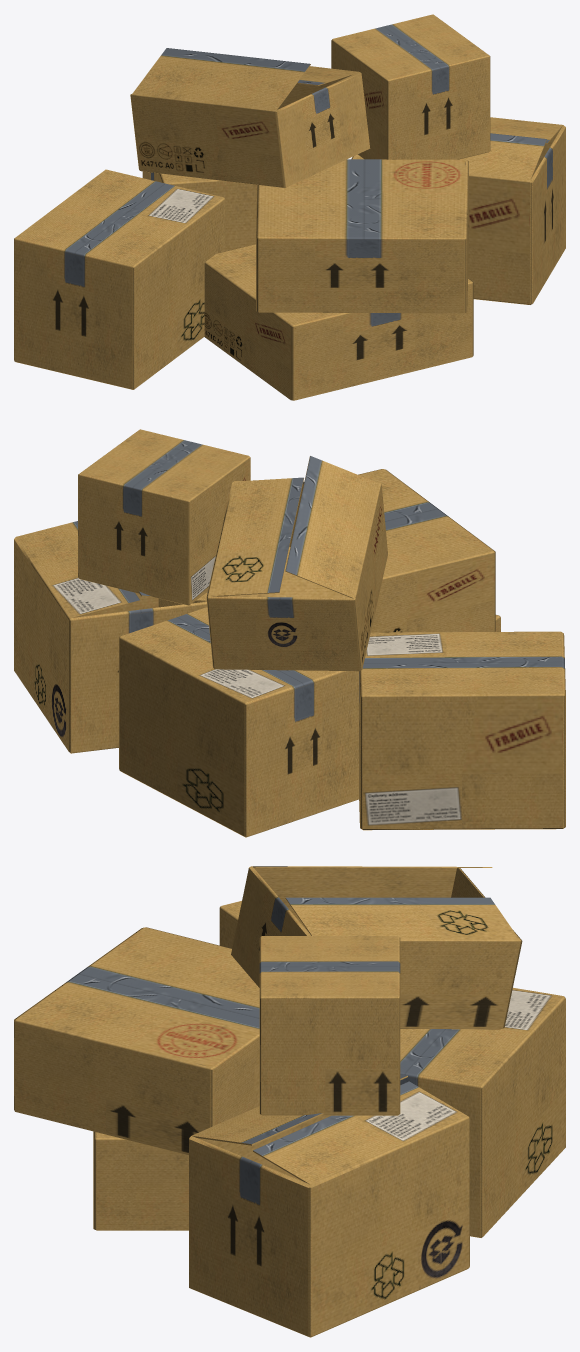
Rendered from cardboard_boxes_pile_02.fbx.
3 renders of one model, top to bottom at view 1: azimuth 30°, elevation 25°; view 2: azimuth 150°, elevation 25°; view 3: azimuth 270°, elevation 25°, orthographic. The views are drawn at different scales.
Parts seen in each view (by area): view 1: cardboard_boxes_pile_02; view 2: cardboard_boxes_pile_02; view 3: cardboard_boxes_pile_02.
Part boxes in pixels (bbox=[...]): cardboard_boxes_pile_02: bbox=[14, 14, 565, 400]; cardboard_boxes_pile_02: bbox=[14, 429, 565, 837]; cardboard_boxes_pile_02: bbox=[14, 866, 565, 1337].
Size of the model in its own units: 316 by 147 by 233.
